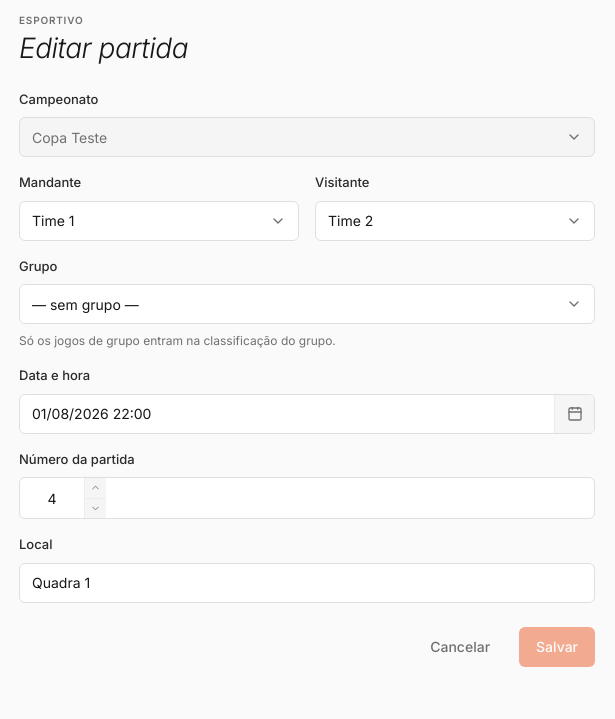
Test case: MatchFormPage edit › disables the group after the API reports the match belongs to the bracket
The width and height of the screenshot is (615, 719).
Check: the field labelled "Local" holds "Quadra 1", box [19,563,595,603]
Click the button labelled "— sem grupo —" at (85,304), box [19,284,595,324]
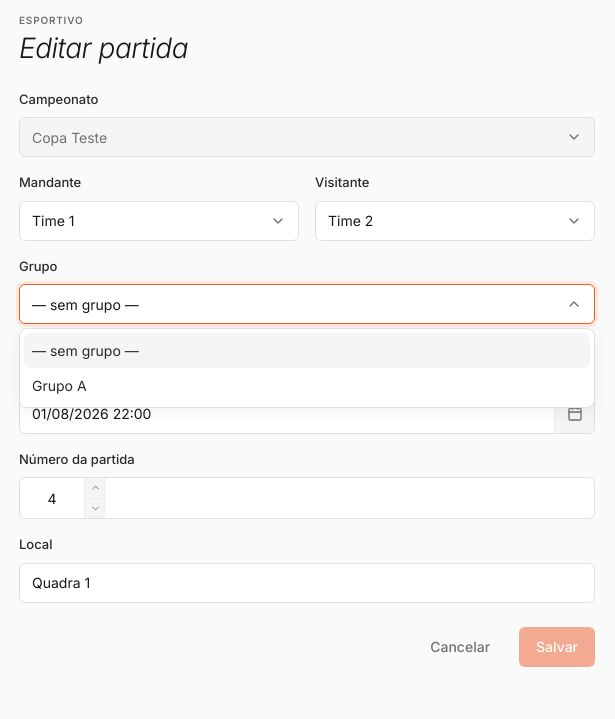
Click the option "Grupo A" at (59,386), box [32,377,87,394]
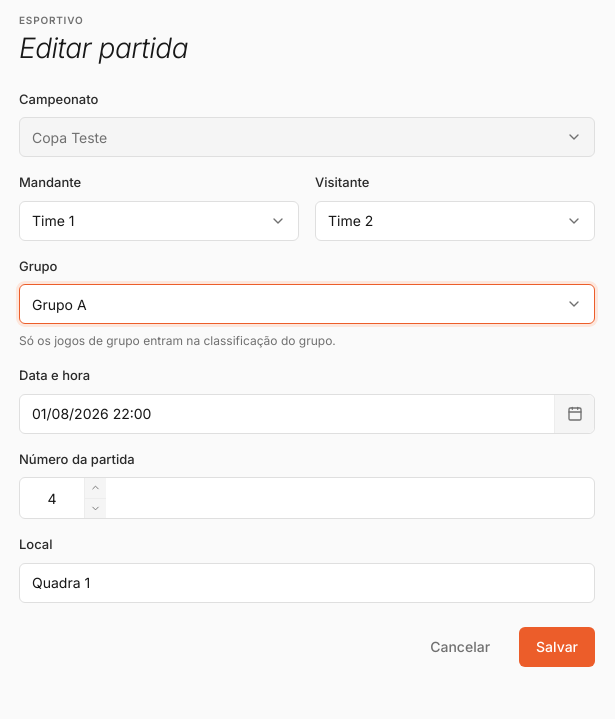
Click the button "Salvar" at (557,647), box [519,627,595,667]
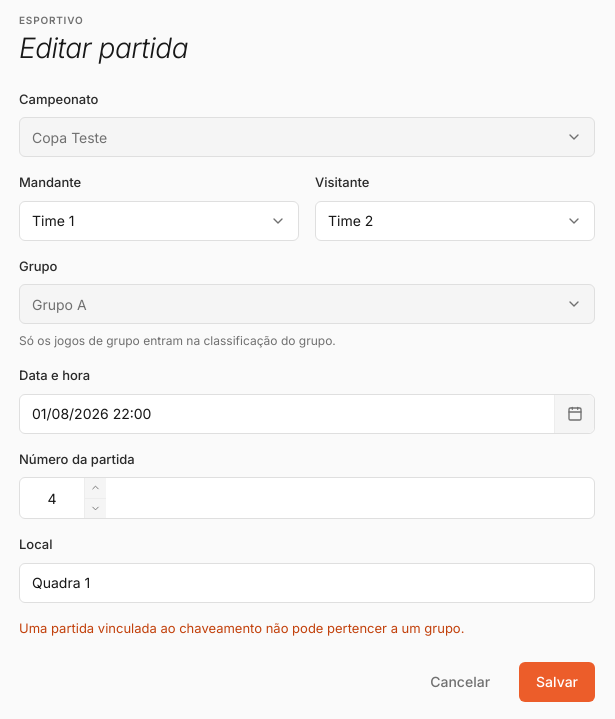
Check: the text "Uma partida vinculada ao chaveamento não pode pertencer a um grupo." is shown, box [19,620,464,636]
Check: the button labelled "Grupo A" is disabled, box [19,284,595,324]
